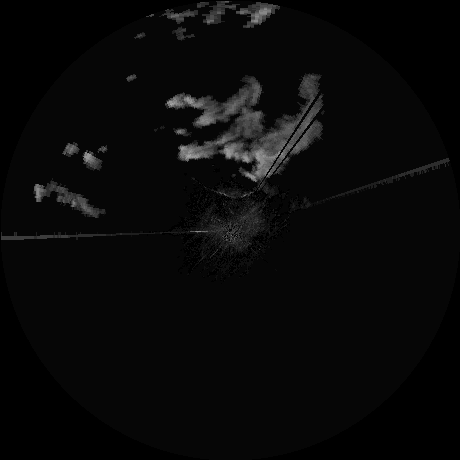frontgust: (212, 181, 264, 199)
